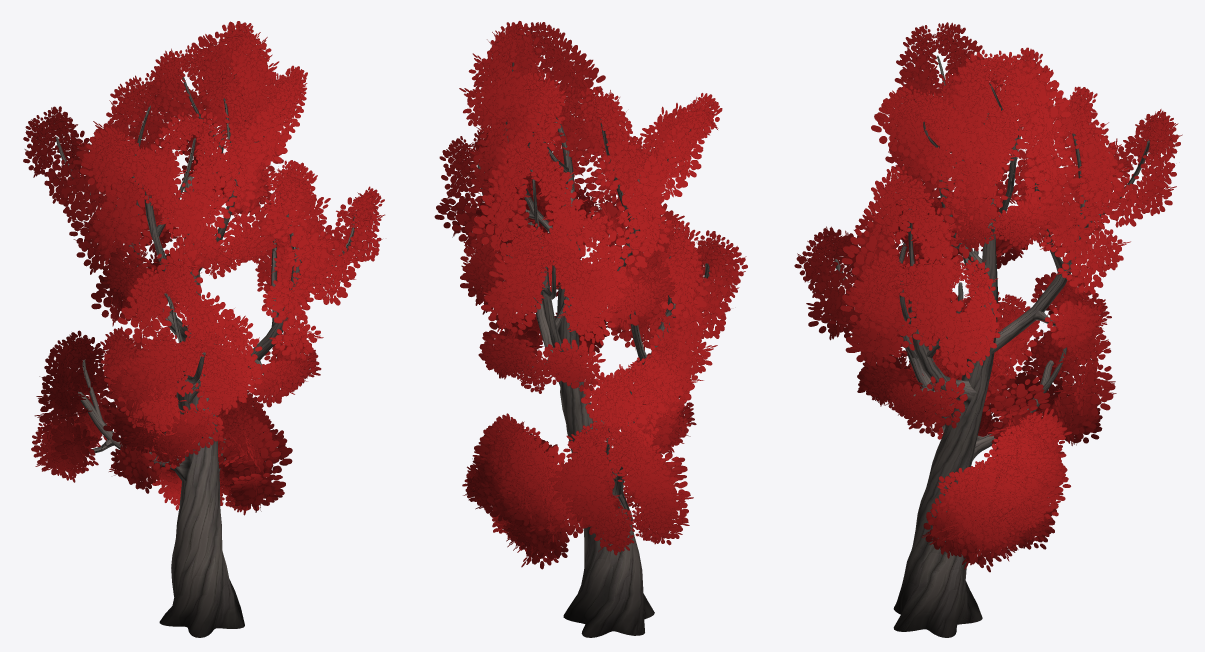
File: nature-twistedtree-4.glb
3 views of the same model, side by side, from view 1: azimuth 30°, elevation 25°; view 2: azimuth 150°, elevation 25°; view 3: azimuth 270°, elevation 25° (orthographic). The views are drawn at different scales.
Parts seen in each view (by area): view 1: TwistedTree_4; view 2: TwistedTree_4; view 3: TwistedTree_4.
Part boxes in pixels (box(x1,y1,x2,y2)): TwistedTree_4: box(23, 21, 384, 637); TwistedTree_4: box(434, 21, 747, 637); TwistedTree_4: box(794, 22, 1182, 637).
Size of the model in its own units: 10.38 by 18.74 by 11.29.
2 materials, 2 textured.
